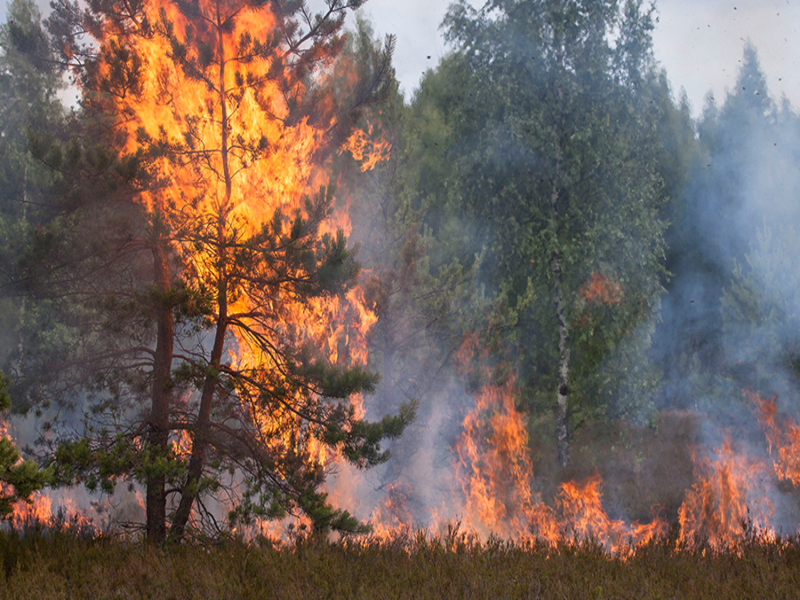fire: (122, 6, 370, 388)
